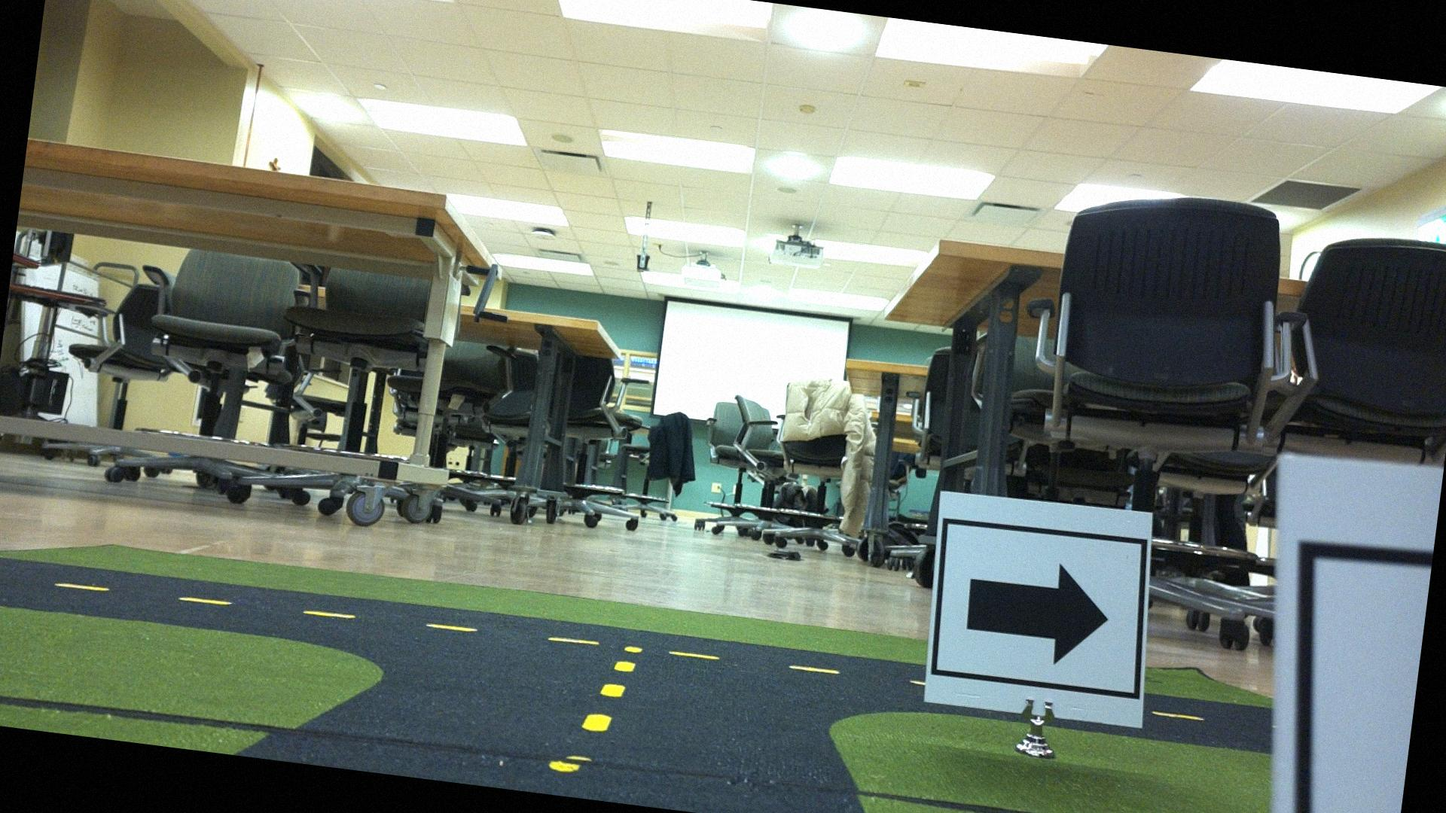turnleft: (926, 496, 1157, 725)
yellowline: (51, 569, 837, 684), (581, 632, 645, 738)
